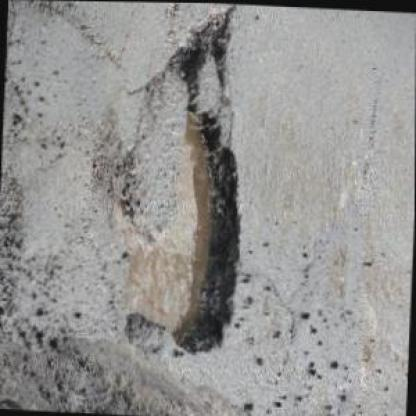pothole: (106, 99, 248, 359), (162, 2, 235, 96)
